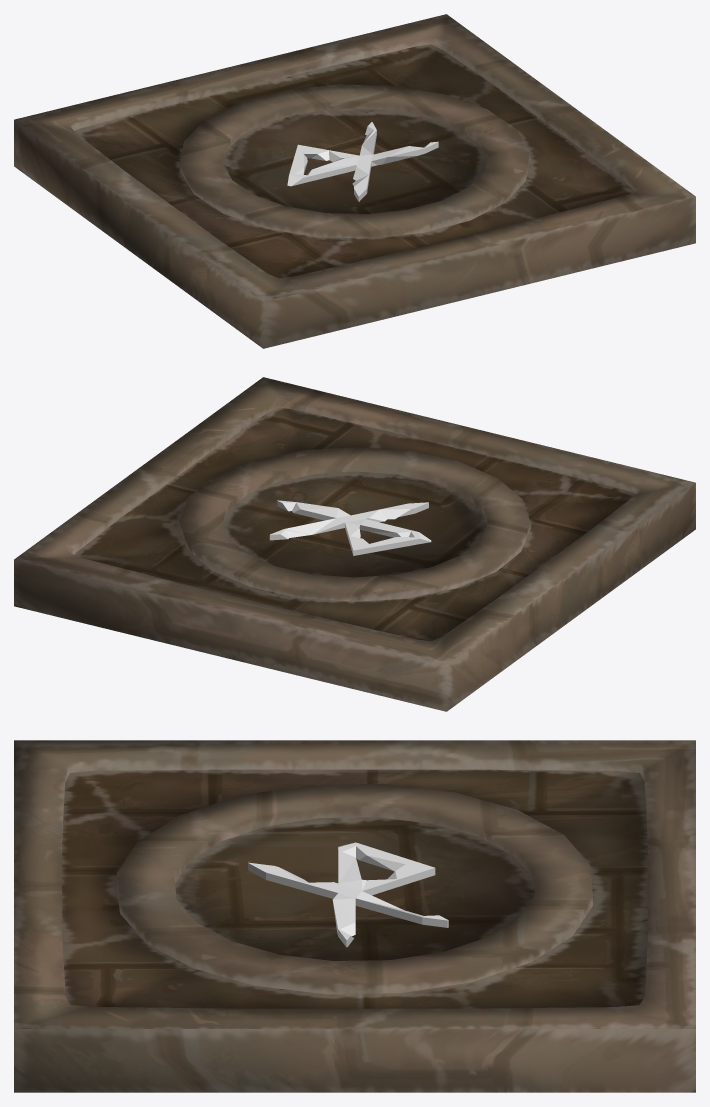
File: baldosa r.fbx
3 views of the same model, one above another, from view 1: azimuth 30°, elevation 25°; view 2: azimuth 150°, elevation 25°; view 3: azimuth 270°, elevation 25° (orthographic). The views are drawn at different scales.
Parts seen in each view (by area): view 1: baldosa low.006, runa r.001; view 2: baldosa low.006, runa r.001; view 3: baldosa low.006, runa r.001.
Part boxes in pixels (bbox=[...]): baldosa low.006: bbox=[14, 14, 695, 348]; runa r.001: bbox=[287, 122, 438, 201]; baldosa low.006: bbox=[14, 377, 695, 711]; runa r.001: bbox=[269, 500, 431, 555]; baldosa low.006: bbox=[14, 740, 695, 1092]; runa r.001: bbox=[248, 842, 448, 947].
Bounding box in the file's own units: 45.2 × 4.77 × 45.12.
Materials: 1 (1 with a texture image).
